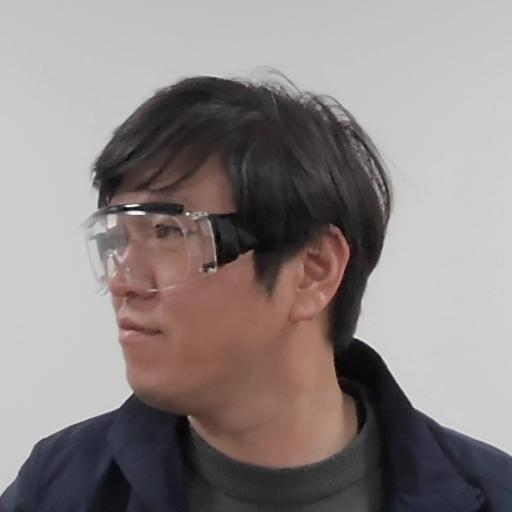glasses: (84, 66, 395, 421)
